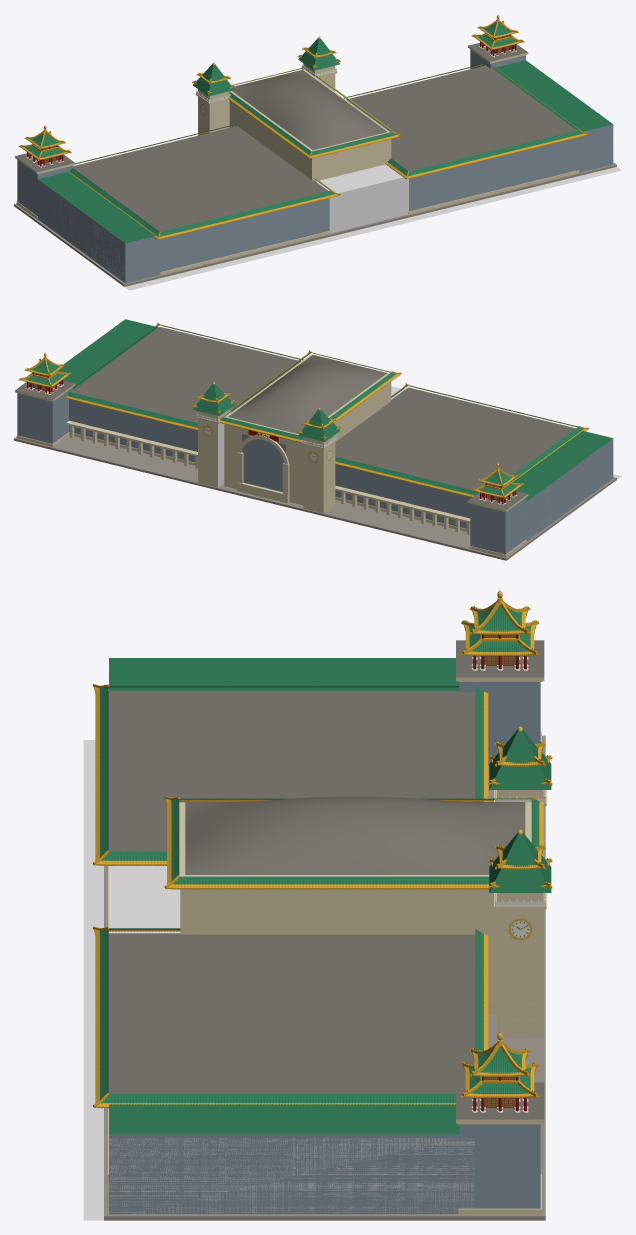
Rendered from station.glb.
3 views of the same model, one above another, from view 1: azimuth 30°, elevation 25°; view 2: azimuth 150°, elevation 25°; view 3: azimuth 270°, elevation 25° (orthographic). The views are drawn at different scales.
Visible parts, largest first — view 1: Station, Massing, COL_wings, FOOTPRINT_station, Pavilions; view 2: Station, Massing, Pavilions, COL_tower.001; view 3: Station, Massing, COL_wings, Pavilions, FOOTPRINT_station.
Part boxes in pixels (x1,y1,x2,y2): Station: (14,42,616,286); Massing: (17,38,613,283); COL_wings: (52,164,408,282); FOOTPRINT_station: (125,167,621,290); Pavilions: (18,14,524,163); Station: (14,322,616,560); Massing: (17,319,613,554); Pavilions: (18,352,524,501); COL_tower.001: (218,423,224,487); Station: (93,640,546,1220); Massing: (109,658,551,1214); COL_wings: (109,865,474,1214); Pavilions: (461,589,552,1107); FOOTPRINT_station: (83,740,103,1220).
Bounding box in the file's own units: 224 × 44.25 × 92.28.
15 materials, 4 textured.
